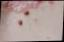plaque psoriasis: (0, 0, 45, 12), (16, 20, 23, 26), (45, 0, 53, 5), (23, 9, 29, 15)
